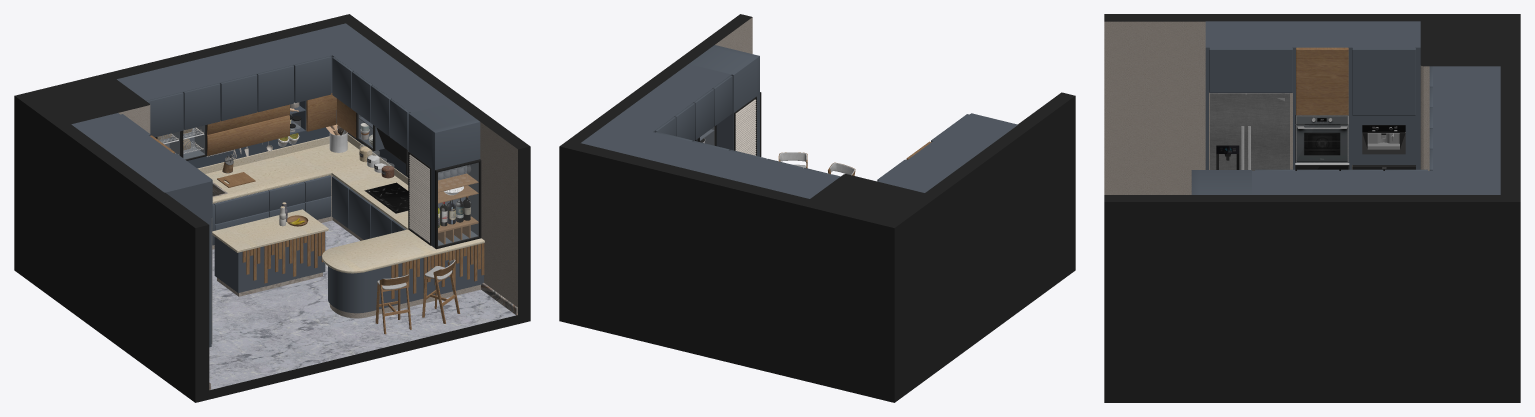
The model's file is kitchen-hd.glb.
3 views of the same model, side by side, from view 1: azimuth 30°, elevation 25°; view 2: azimuth 150°, elevation 25°; view 3: azimuth 270°, elevation 25° (orthographic). The views are drawn at different scales.
Visible parts, largest first — view 1: Walls_Black_0, Cabinets_Closet_0, Walls_Floor_0, Cabinets_Countertop_0, WoodCabinet_OakWood_0, Walls_White_0, GlassC_Glass_0, Island_Closet_0, Island_Countertop_0, Stool_OakWood_0, Walls_ClosetGlossy_0, Vent_Chrome_0 (+4 smaller); view 2: Walls_Black_0, Cabinets_Closet_0, Vent_Chrome_0, Walls_White_0, Stool_M_12_s21_0; view 3: Walls_Black_0, Cabinets_Closet_0, Walls_White_0, RLF_74925_Aluminum_0, WoodCabinet_OakWood_0, HLB_840_Front.001_0, CLC855_URBAN_Grey_0, HLB_840_Brushed_Metal1_0, CLC855_URBAN_Night_River_Black_Front_0.
Part boxes in pixels (x1=…): Walls_Black_0: x1=14, y1=14, x2=530, y2=402; Cabinets_Closet_0: x1=71, y1=23, x2=483, y2=347; Walls_Floor_0: x1=209, y1=220, x2=515, y2=389; Cabinets_Countertop_0: x1=197, y1=134, x2=484, y2=273; WoodCabinet_OakWood_0: x1=150, y1=93, x2=484, y2=298; Walls_White_0: x1=118, y1=105, x2=517, y2=307; GlassC_Glass_0: x1=158, y1=114, x2=478, y2=245; Island_Closet_0: x1=214, y1=232, x2=325, y2=292; Island_Countertop_0: x1=212, y1=209, x2=328, y2=252; Stool_OakWood_0: x1=375, y1=259, x2=460, y2=334; Walls_ClosetGlossy_0: x1=187, y1=127, x2=408, y2=177; Vent_Chrome_0: x1=409, y1=154, x2=429, y2=242; Walls_Black_0: x1=559, y1=14, x2=1075, y2=402; Cabinets_Closet_0: x1=581, y1=45, x2=1017, y2=198; Vent_Chrome_0: x1=735, y1=99, x2=756, y2=155; Walls_White_0: x1=715, y1=17, x2=752, y2=53; Stool_M_12_s21_0: x1=779, y1=152, x2=854, y2=176; Walls_Black_0: x1=1104, y1=14, x2=1520, y2=402; Cabinets_Closet_0: x1=1191, y1=21, x2=1500, y2=194; Walls_White_0: x1=1104, y1=21, x2=1429, y2=194; RLF_74925_Aluminum_0: x1=1210, y1=93, x2=1289, y2=170; WoodCabinet_OakWood_0: x1=1296, y1=47, x2=1348, y2=115; HLB_840_Front.001_0: x1=1295, y1=116, x2=1348, y2=161; CLC855_URBAN_Grey_0: x1=1367, y1=133, x2=1399, y2=149; HLB_840_Brushed_Metal1_0: x1=1296, y1=115, x2=1348, y2=162; CLC855_URBAN_Night_River_Black_Front_0: x1=1362, y1=133, x2=1405, y2=154.
Bounding box in the file's own units: 6.57 × 3.27 × 6.14.
95 materials, 45 textured.
